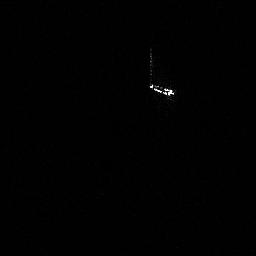ship: (147, 81, 176, 98)
